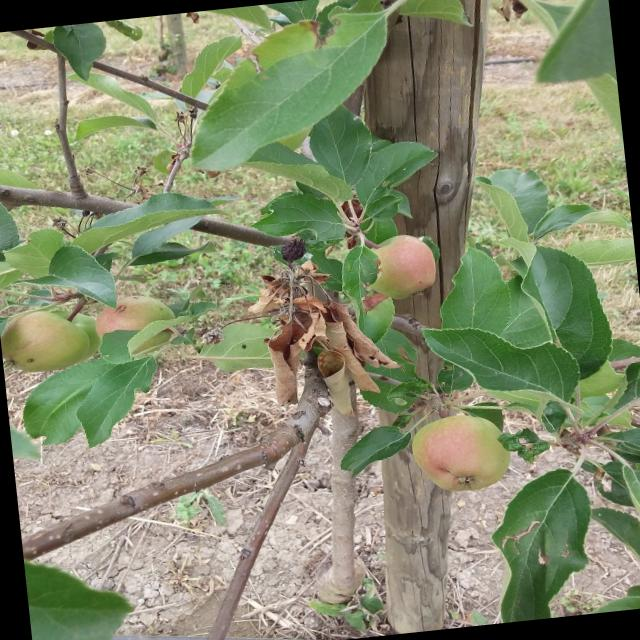-FireBlight-: (228, 238, 402, 438)
